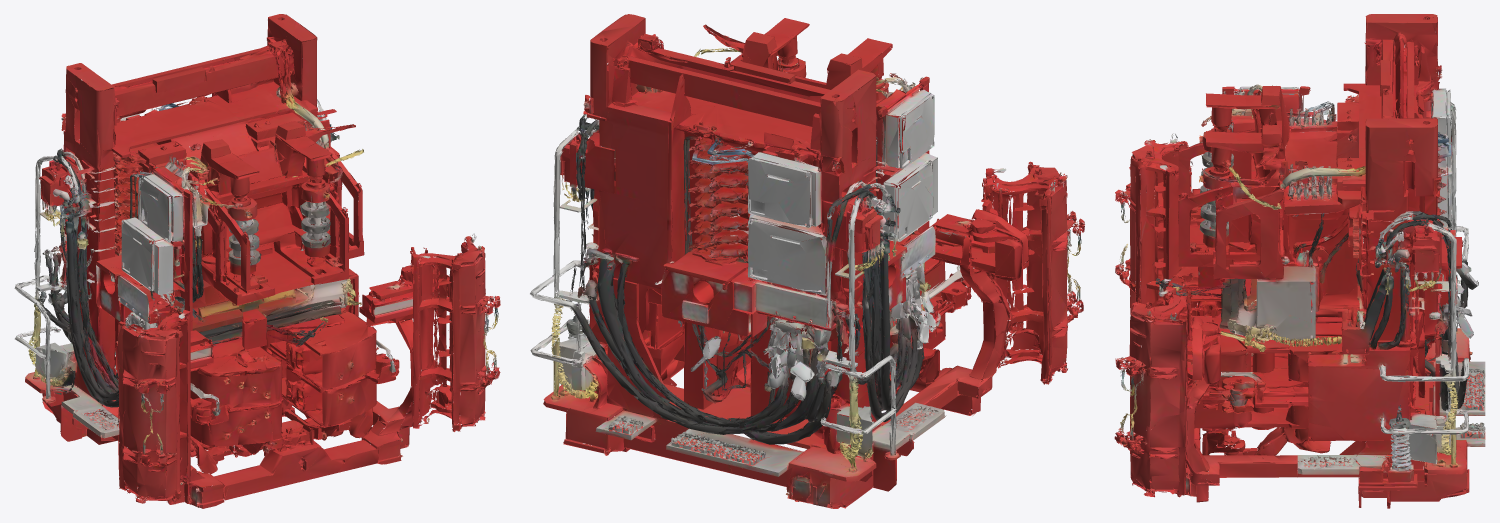
File: roughneck.glb
3 views of the same model, side by side, from view 1: azimuth 30°, elevation 25°; view 2: azimuth 150°, elevation 25°; view 3: azimuth 270°, elevation 25° (orthographic). The views are drawn at different scales.
Visible parts, largest first — view 1: model; view 2: model; view 3: model.
Boxes of the visible parts, left/top/right/bottom form: model: left=14, top=14, right=500, bottom=508; model: left=530, top=14, right=1084, bottom=508; model: left=1114, top=14, right=1485, bottom=508.
Size of the model in its own units: 1.88 by 1.75 by 1.58.
1 material, 1 textured.
